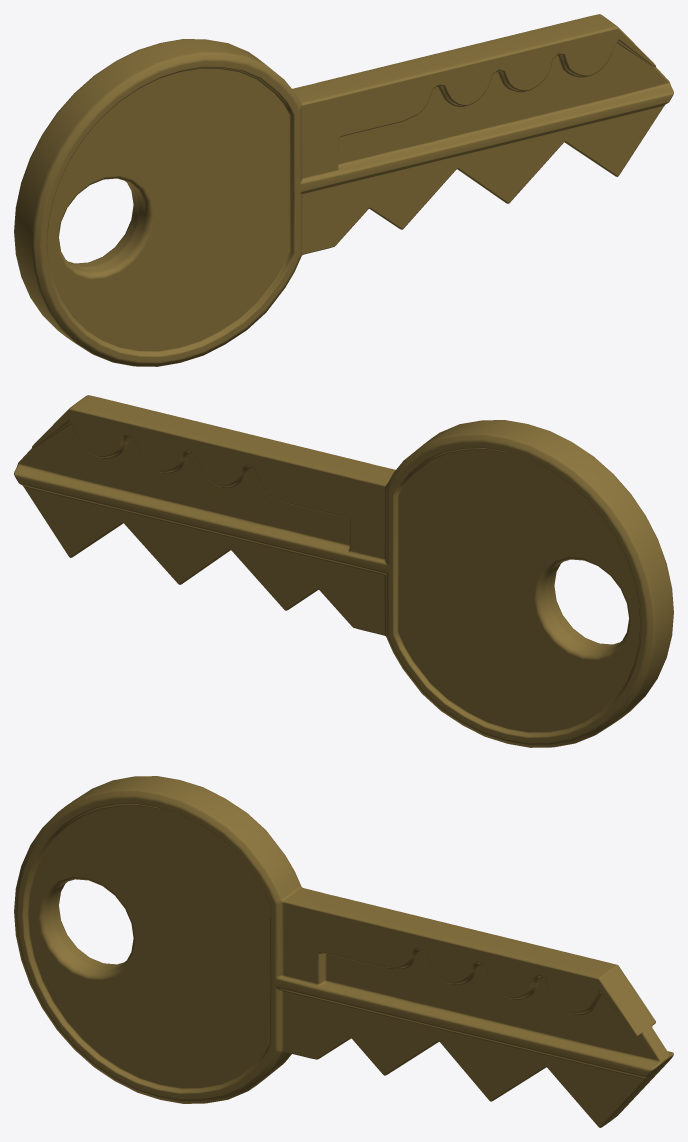
File: key.glb
3 views of the same model, one above another, from view 1: azimuth 30°, elevation 25°; view 2: azimuth 150°, elevation 25°; view 3: azimuth 330°, elevation 25° (orthographic).
Parts seen in each view (by area): view 1: node_id74; view 2: node_id74; view 3: node_id74.
Boxes of the visible parts, x1,y1,x2,y2 form: node_id74: (14,14,673,366); node_id74: (14,395,673,747); node_id74: (14,776,673,1127).
Size of the model in its own units: 0.1176 by 0.0537 by 0.00761.
